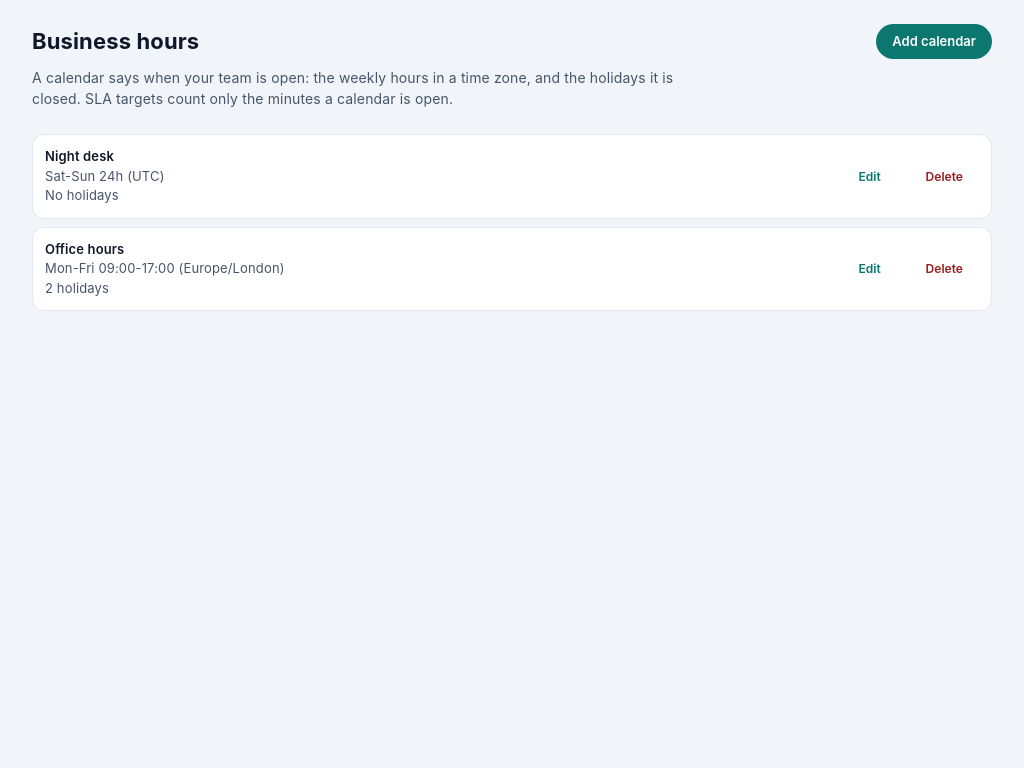
Test: BusinessHoursPage › edits a calendar: the drawer starts from its values and saves a replace
Click the button with aria-label "Edit Office hours".
click(870, 269)  # box [838,254,902,283]
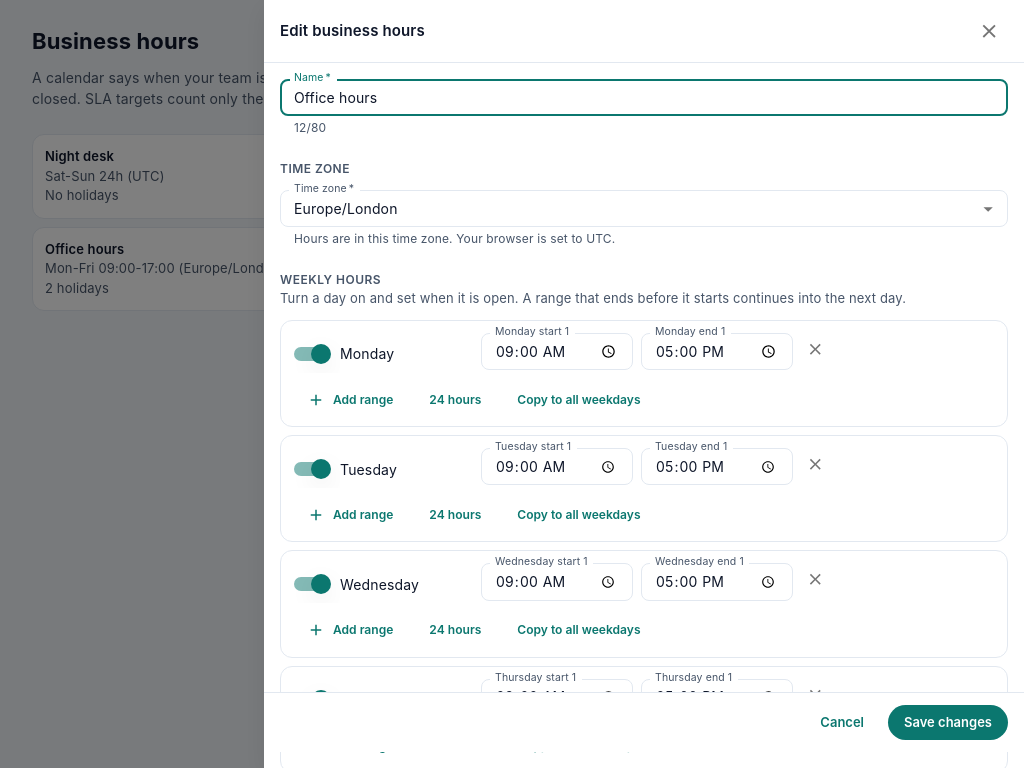
Result: the field labelled "Name *" holds "Office hours"
Result: the switch named "Monday open" is checked at [294,344,394,364]
Replace the text in the field labelled "Name *" with "Support" at (644, 98), box [280,79,1008,116]
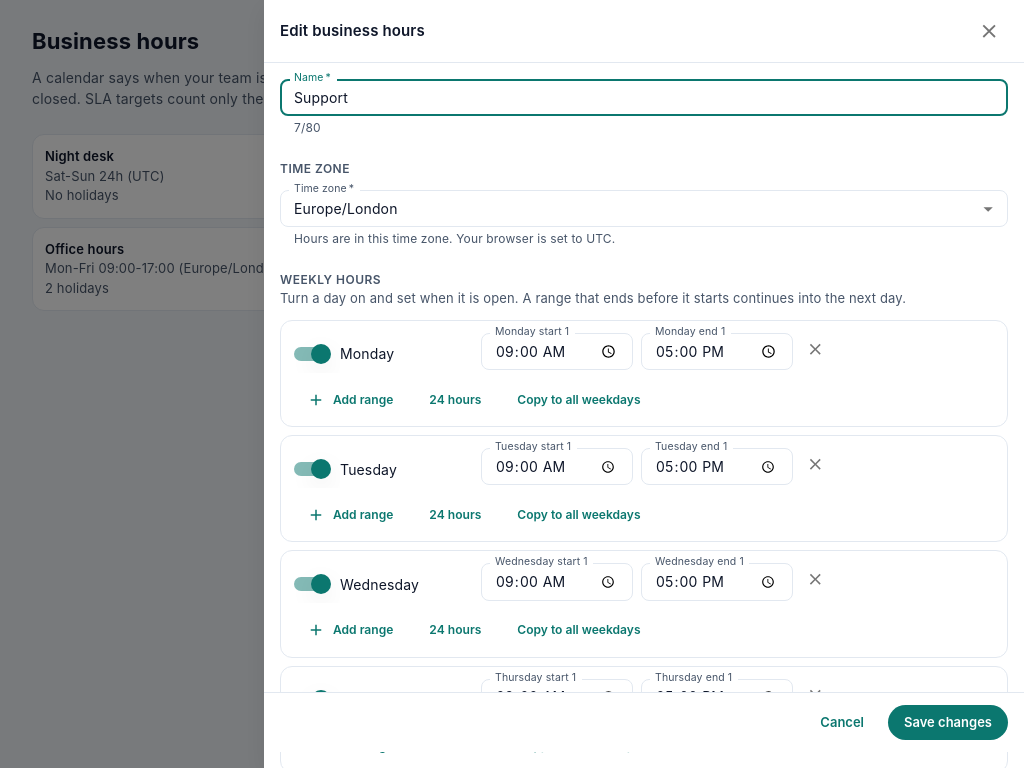
Click the button "Save changes".
click(948, 723)  # box [888,705,1008,740]
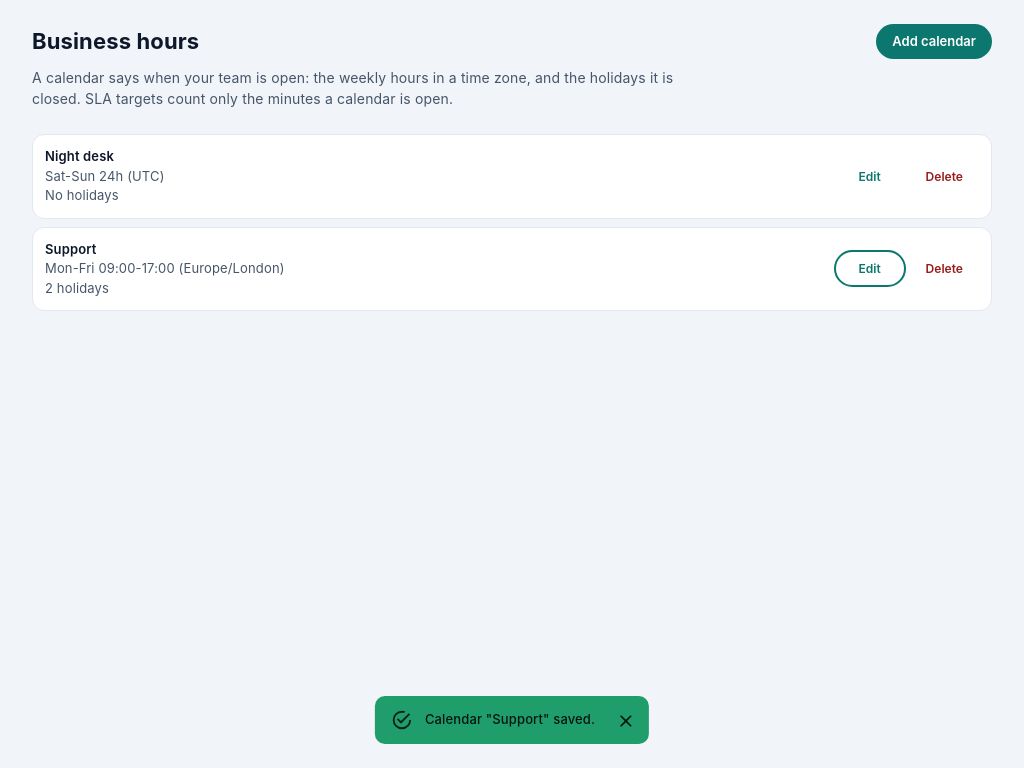
Result: the text "Support" is shown at [45,241,96,257]
